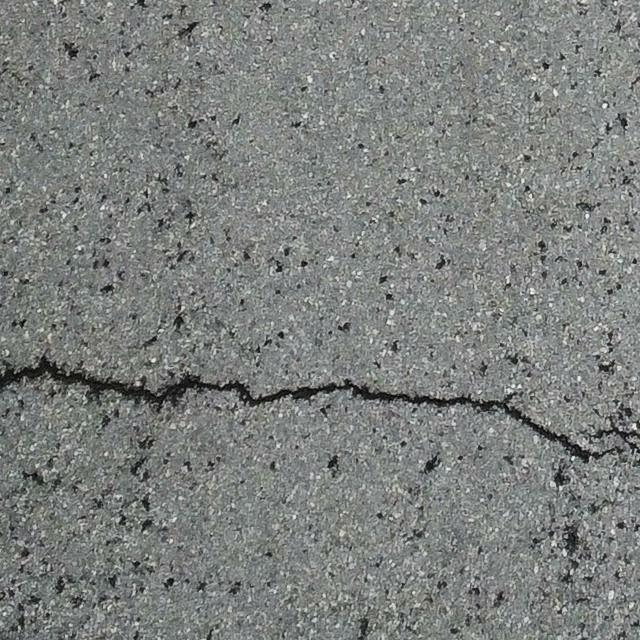TransverseCrack: (1, 354, 640, 461)
